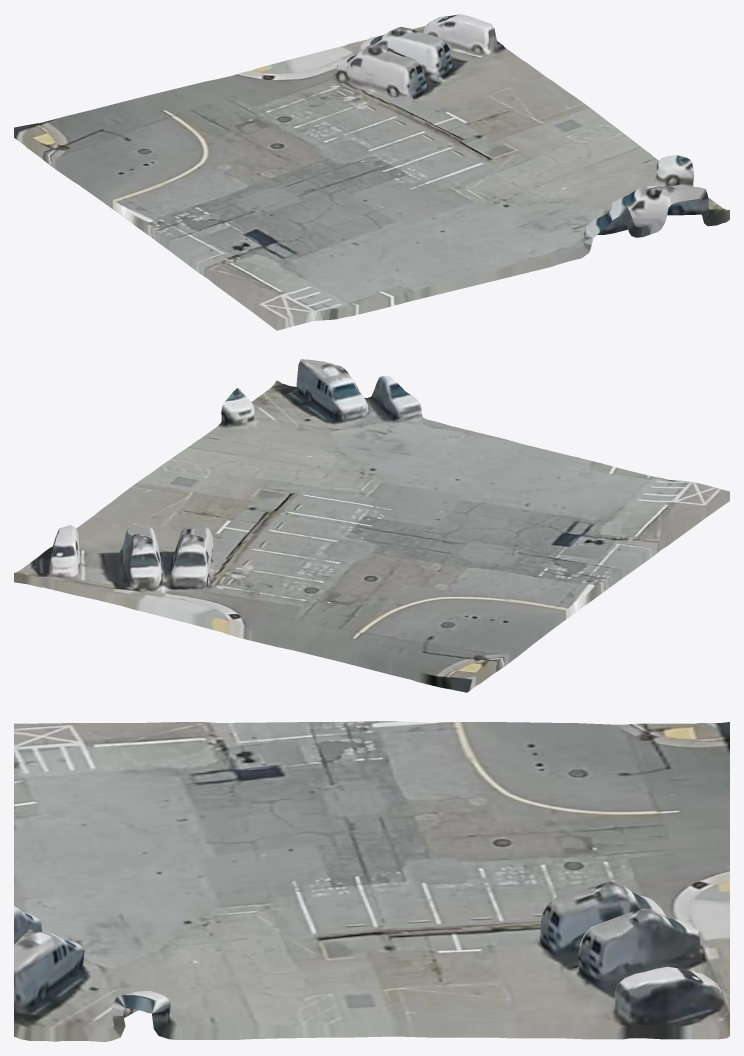
File: z20-167775-405204-h0-yup-uvflip-v3-world.glb
3 renders of one model, top to bottom at view 1: azimuth 30°, elevation 25°; view 2: azimuth 150°, elevation 25°; view 3: azimuth 270°, elevation 25°, orthographic. The views are drawn at different scales.
Bounding box in the file's own units: 30.16 × 3.32 × 30.32.
Materials: 1 (1 with a texture image).
